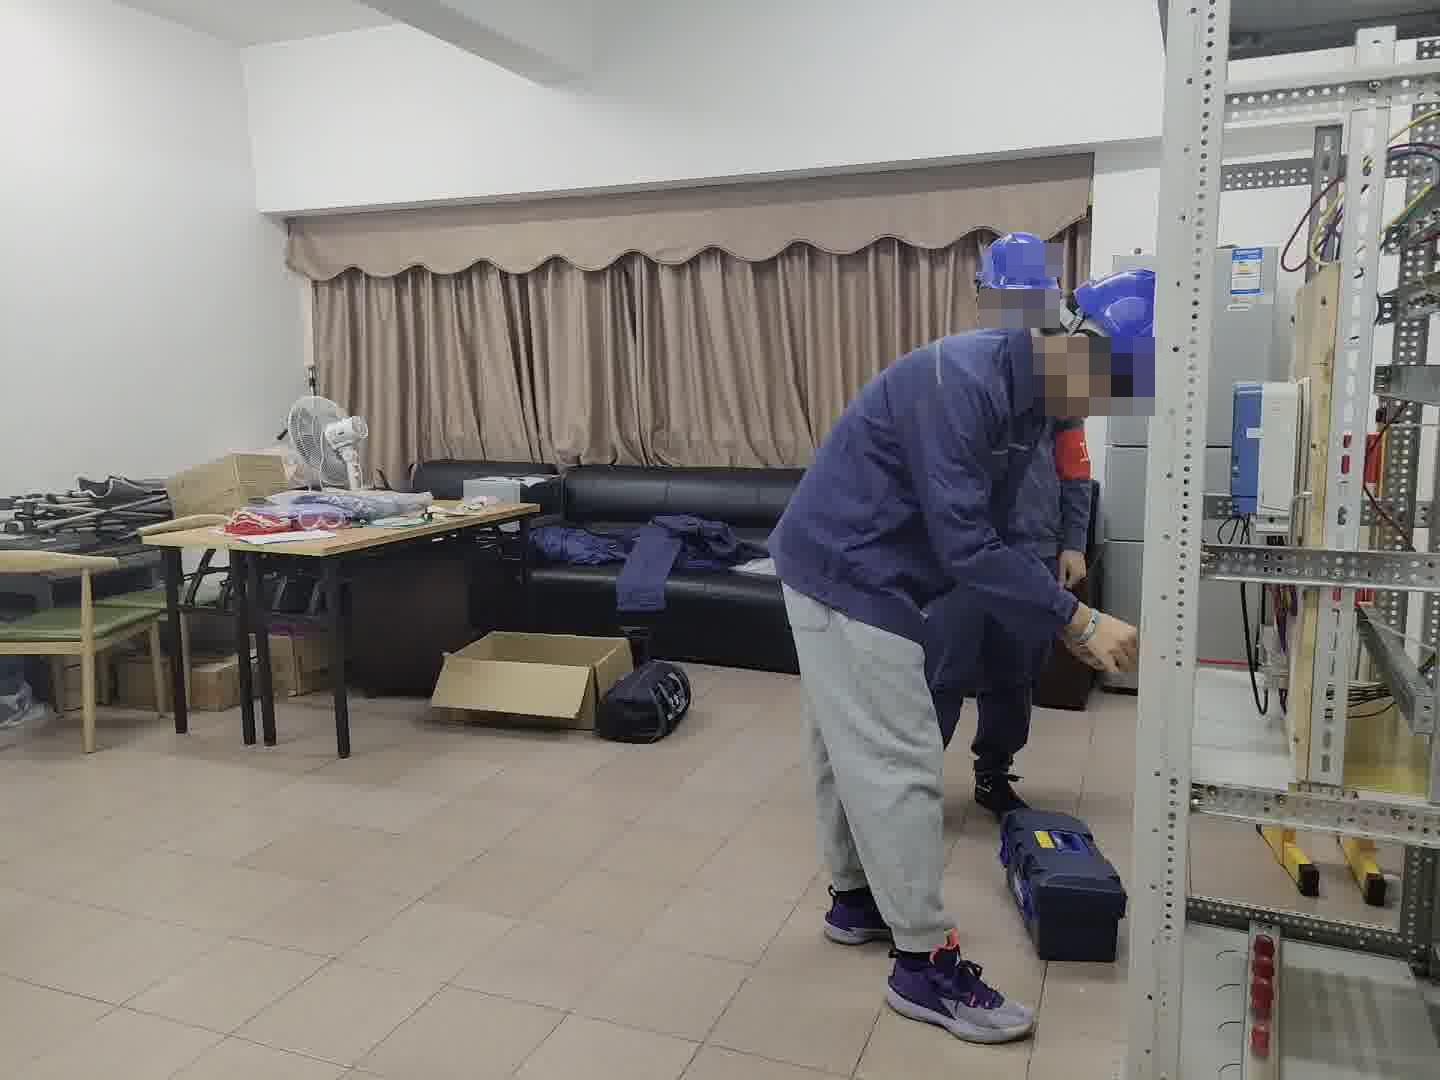badge: (1054, 425, 1096, 486)
downcloth: (783, 595, 951, 947)
downsuit: (933, 592, 1064, 752)
halt: (1042, 266, 1156, 419), (973, 229, 1064, 320)
hand: (1073, 600, 1142, 675), (1060, 548, 1087, 593)
inear: (1046, 308, 1117, 392)
person: (772, 226, 1154, 1055)
upsuit: (770, 311, 1075, 599)
